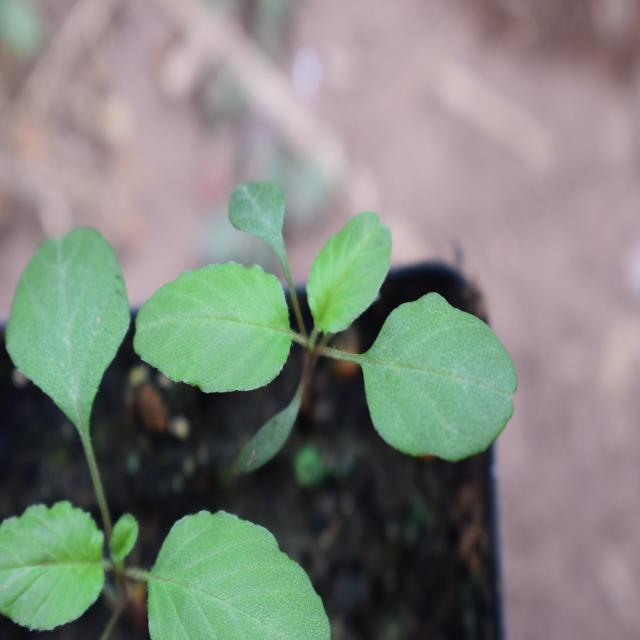pigweed: (151, 198, 537, 461)
